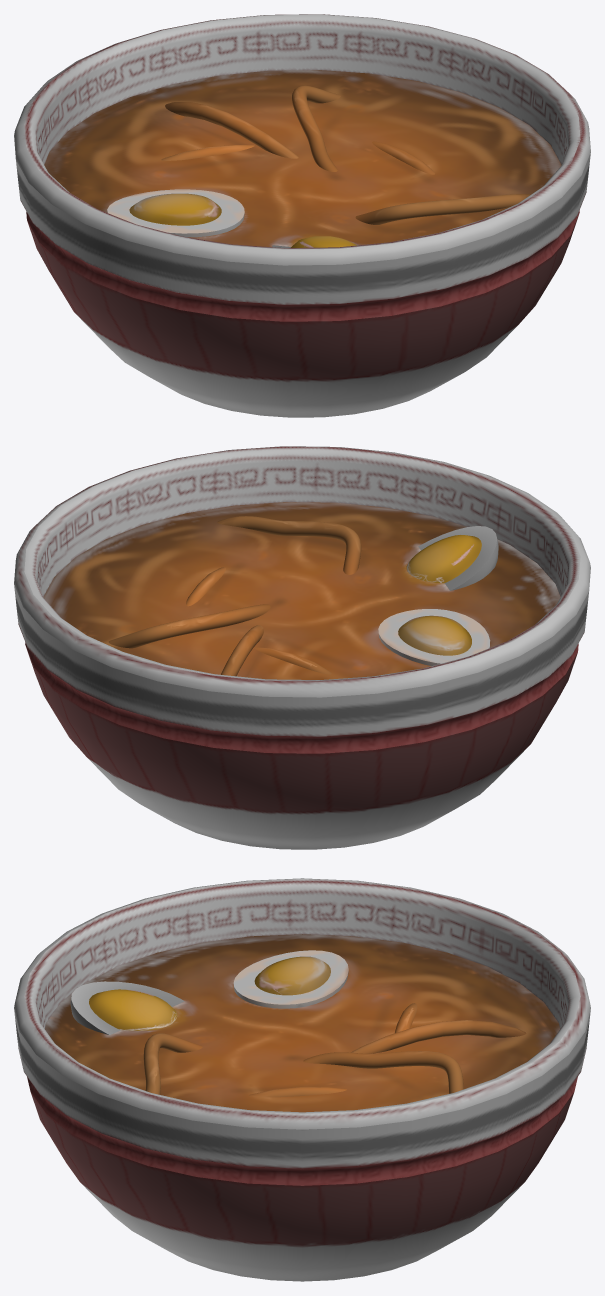
The model's file is ramen.glb.
3 renders of one model, top to bottom at view 1: azimuth 30°, elevation 25°; view 2: azimuth 150°, elevation 25°; view 3: azimuth 270°, elevation 25°, orthographic.
Visible parts, largest first — view 1: CUP; view 2: CUP; view 3: CUP.
Part boxes in pixels (x1,y1,x2,y2): CUP: (14,14,590,417); CUP: (14,446,590,849); CUP: (14,878,590,1281).
Bounding box in the file's own units: 2.31 × 1.01 × 2.31.
Materials: 1 (1 with a texture image).
